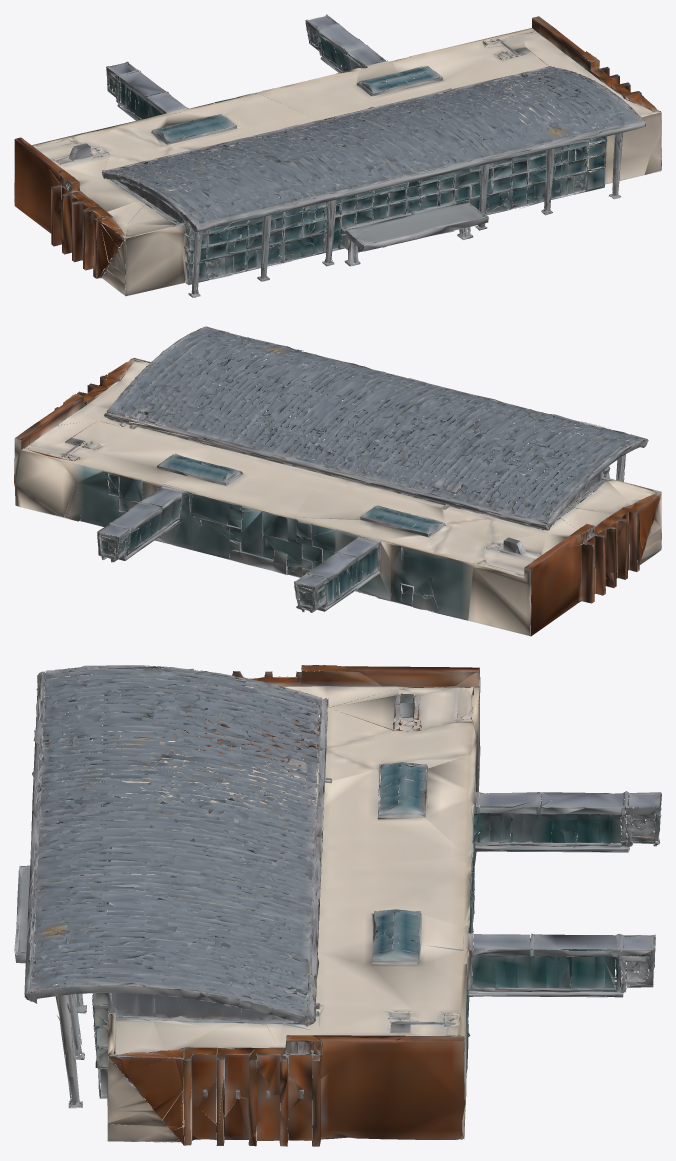
File: terminal.glb
3 renders of one model, top to bottom at view 1: azimuth 30°, elevation 25°; view 2: azimuth 150°, elevation 25°; view 3: azimuth 270°, elevation 25°, orthographic. The views are drawn at different scales.
Parts seen in each view (by area): view 1: LO.001; view 2: LO.001; view 3: LO.001.
Boxes of the visible parts, left/top/right/bottom form: LO.001: left=14, top=14, right=661, bottom=297; LO.001: left=14, top=326, right=661, bottom=636; LO.001: left=14, top=665, right=661, bottom=1146.
Bounding box in the file's own units: 1.91 × 0.3075 × 1.34.
1 material, 1 textured.
